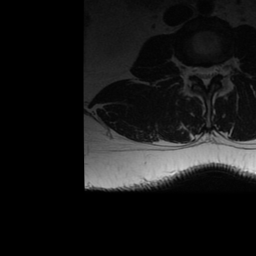CCS_normal: (202, 58, 209, 93)
LFS_normal: (217, 54, 226, 82)
LLS_normal: (209, 57, 217, 84)
RFS_normal: (186, 58, 195, 82)
RLS_normal: (194, 58, 202, 83)
